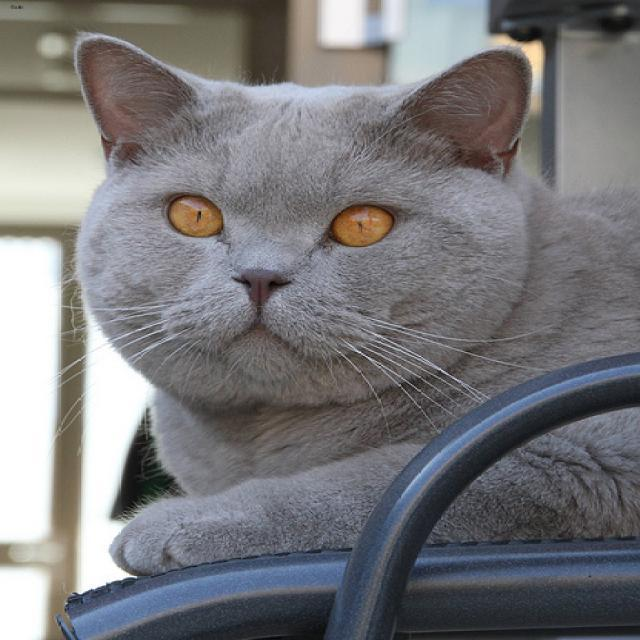British_Shorthair: (68, 35, 539, 423)
